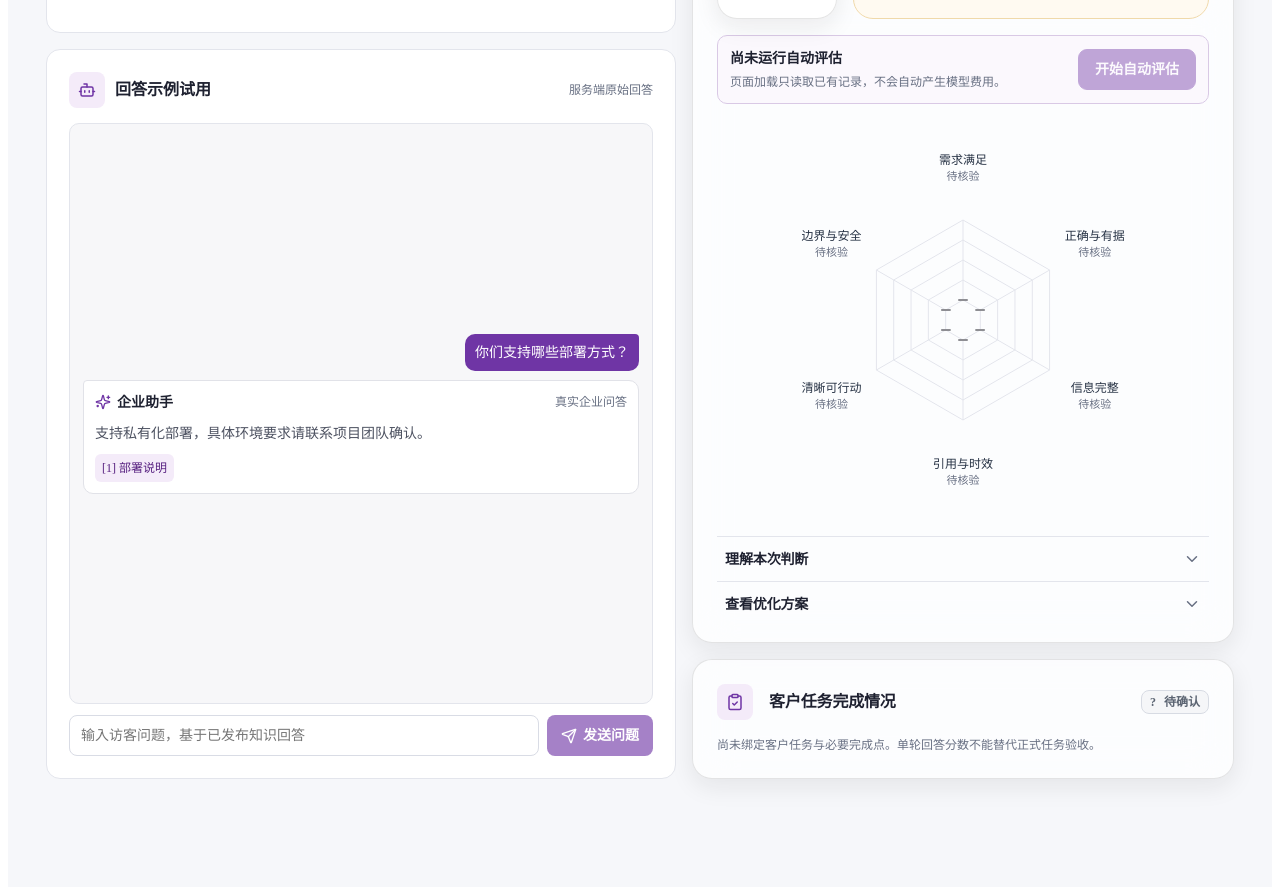
enterprise RAG evidence-based review UI › renders the persisted live answer and only server-resolved source metadata
(page scrolled)
Expected: the text with test id "rag-answer" shows "支持私有化部署", [95,426,431,441]
Click the button with test id "rag-source": (134, 468) [95,454,174,482]
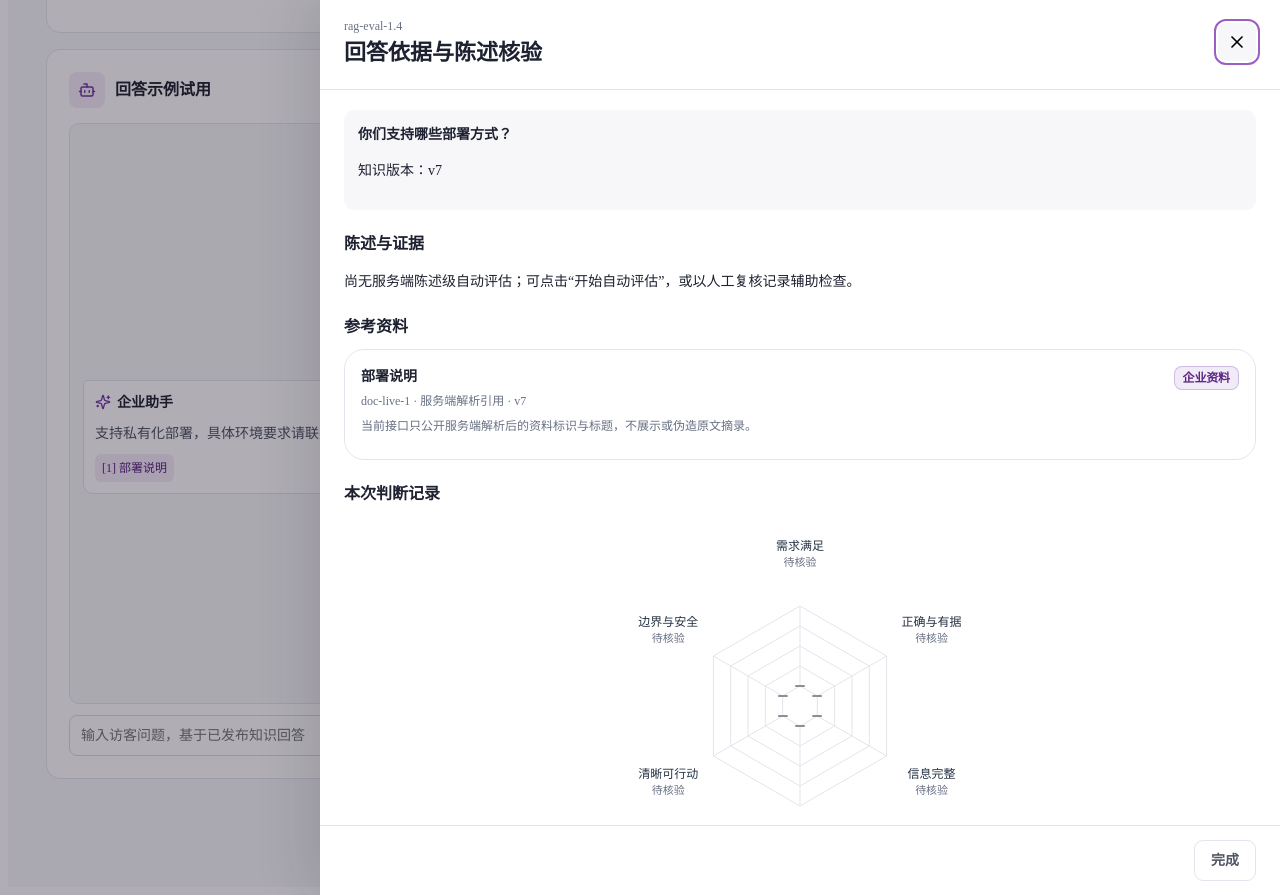
Expected: the text "服务端原始回答" is shown, [569,82,653,100]
Expected: the text "当前接口只公开服务端解析后的资料标识与标题，不展示或伪造原文摘录。" is shown, [361,419,757,433]
Expected: the text "知识版本：v7" is shown, [358,163,442,178]
